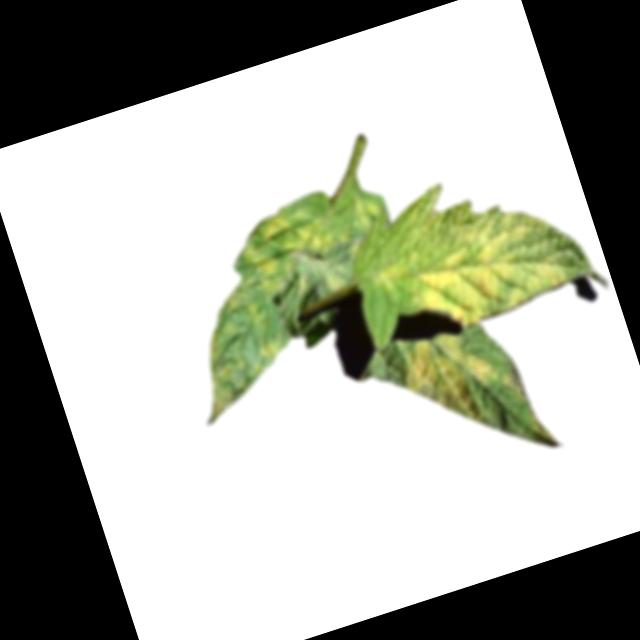Leaf_Mold: (402, 190, 577, 338), (394, 321, 507, 442), (284, 213, 353, 268), (366, 252, 417, 302), (242, 241, 283, 298), (255, 208, 295, 242), (259, 338, 287, 364)
